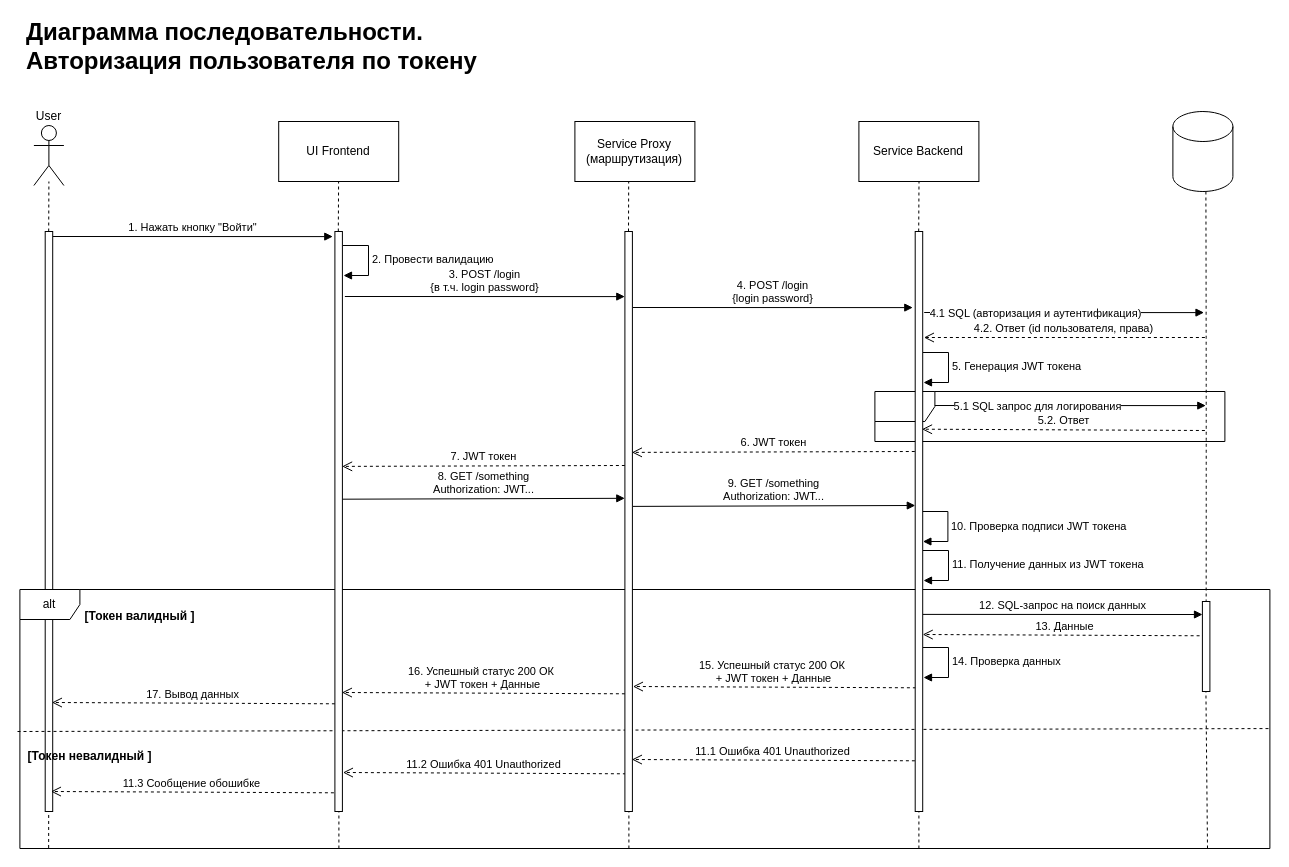
Some shapes in this 1289 by 867 pixel diagram are drawn without their labels. Here are the shapes that lost their labels. From the top down, the centre of each, then its label:
At [1202,151]: "DB".
At [1049,416]: "opt".
